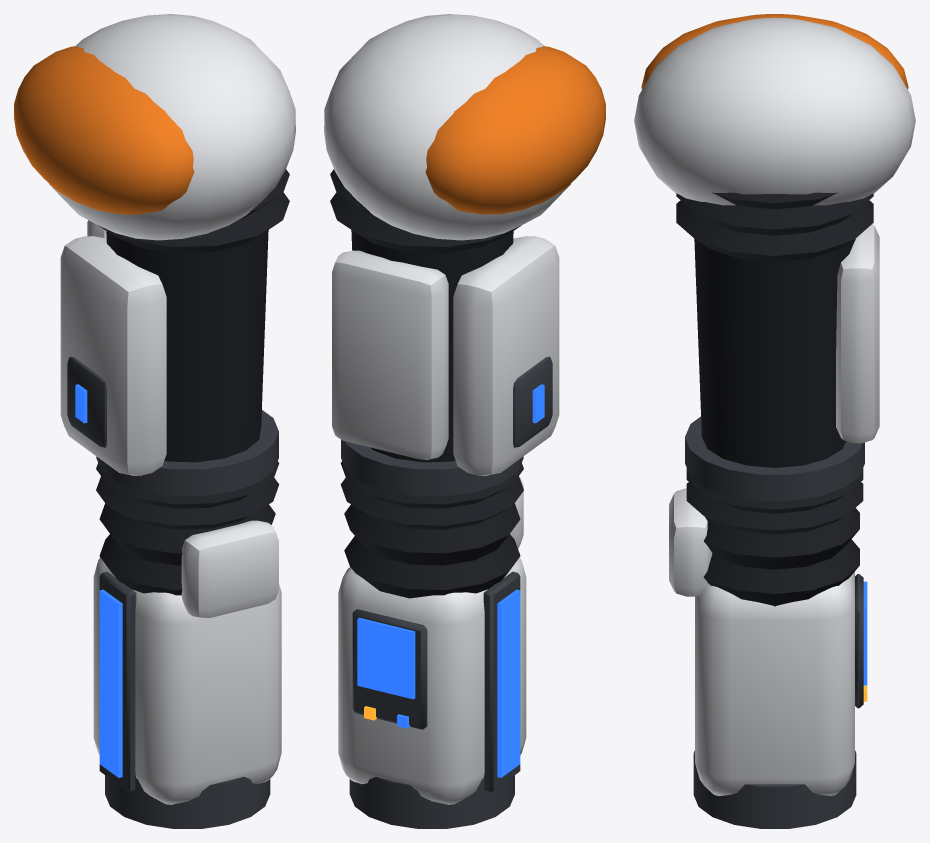
The model's file is arm_l.glb.
The picture shows the model from 3 angles, left to right: view 1: azimuth 30°, elevation 25°; view 2: azimuth 150°, elevation 25°; view 3: azimuth 270°, elevation 25°; orthographic projection.
Visible parts, largest first — view 1: ArmL_Suit_White, ForearmL_Suit_White, ArmL_Undersuit, ArmL_Suit_Orange, ForearmL_Metal_Dark, ArmL_Metal_Dark, ForearmL_Undersuit, ForearmL_Strip_Blue; view 2: ArmL_Suit_White, ForearmL_Suit_White, ArmL_Suit_Orange, ArmL_Undersuit, ForearmL_Metal_Dark, ForearmL_Undersuit, ForearmL_Strip_Blue, ArmL_Metal_Dark; view 3: ArmL_Suit_White, ArmL_Undersuit, ForearmL_Suit_White, ForearmL_Undersuit, ForearmL_Metal_Dark, ArmL_Metal_Dark, ArmL_Suit_Orange, ForearmL_Strip_Blue.
Part boxes in pixels (x1=…): ArmL_Suit_White: x1=49, y1=14, x2=295, y2=475; ForearmL_Suit_White: x1=93, y1=520, x2=281, y2=804; ArmL_Undersuit: x1=96, y1=169, x2=289, y2=529; ArmL_Suit_Orange: x1=14, y1=46, x2=194, y2=214; ForearmL_Metal_Dark: x1=99, y1=571, x2=270, y2=828; ArmL_Metal_Dark: x1=67, y1=356, x2=278, y2=495; ForearmL_Undersuit: x1=99, y1=503, x2=275, y2=595; ForearmL_Strip_Blue: x1=99, y1=589, x2=122, y2=777; ArmL_Suit_White: x1=324, y1=14, x2=570, y2=475; ForearmL_Suit_White: x1=338, y1=477, x2=526, y2=804; ArmL_Suit_Orange: x1=425, y1=46, x2=605, y2=214; ArmL_Undersuit: x1=330, y1=169, x2=523, y2=529; ForearmL_Metal_Dark: x1=349, y1=571, x2=520, y2=828; ForearmL_Undersuit: x1=344, y1=503, x2=520, y2=598; ForearmL_Strip_Blue: x1=357, y1=589, x2=520, y2=777; ArmL_Metal_Dark: x1=341, y1=356, x2=552, y2=495; ArmL_Suit_White: x1=634, y1=17, x2=915, y2=443; ArmL_Undersuit: x1=676, y1=192, x2=873, y2=534; ForearmL_Suit_White: x1=669, y1=488, x2=854, y2=795; ForearmL_Undersuit: x1=703, y1=508, x2=859, y2=606; ForearmL_Metal_Dark: x1=693, y1=574, x2=863, y2=828; ArmL_Metal_Dark: x1=685, y1=416, x2=864, y2=500; ArmL_Suit_Orange: x1=641, y1=14, x2=908, y2=89; ForearmL_Strip_Blue: x1=863, y1=581, x2=867, y2=685.
Bounding box in the file's own units: 0.1854 × 0.5747 × 0.194.
